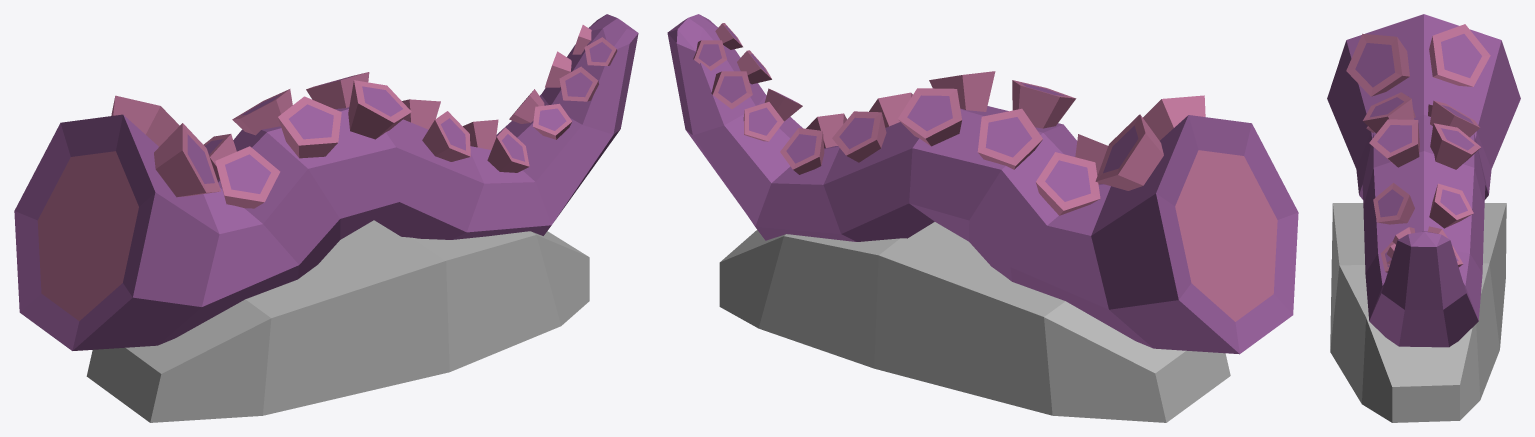
Rendered from Sushi_NigiriOctopus.glb.
3 renders of one model, left to right at view 1: azimuth 30°, elevation 25°; view 2: azimuth 150°, elevation 25°; view 3: azimuth 270°, elevation 25°, orthographic. The views are drawn at different scales.
Visible parts, largest first — view 1: Sushi_NigiriOctopus; view 2: Sushi_NigiriOctopus; view 3: Sushi_NigiriOctopus.
Part boxes in pixels (x1,y1,x2,y2): Sushi_NigiriOctopus: (14,14,638,422); Sushi_NigiriOctopus: (667,14,1298,422); Sushi_NigiriOctopus: (1327,14,1520,422).
Bounding box in the file's own units: 0.762 × 0.3505 × 0.2673.
